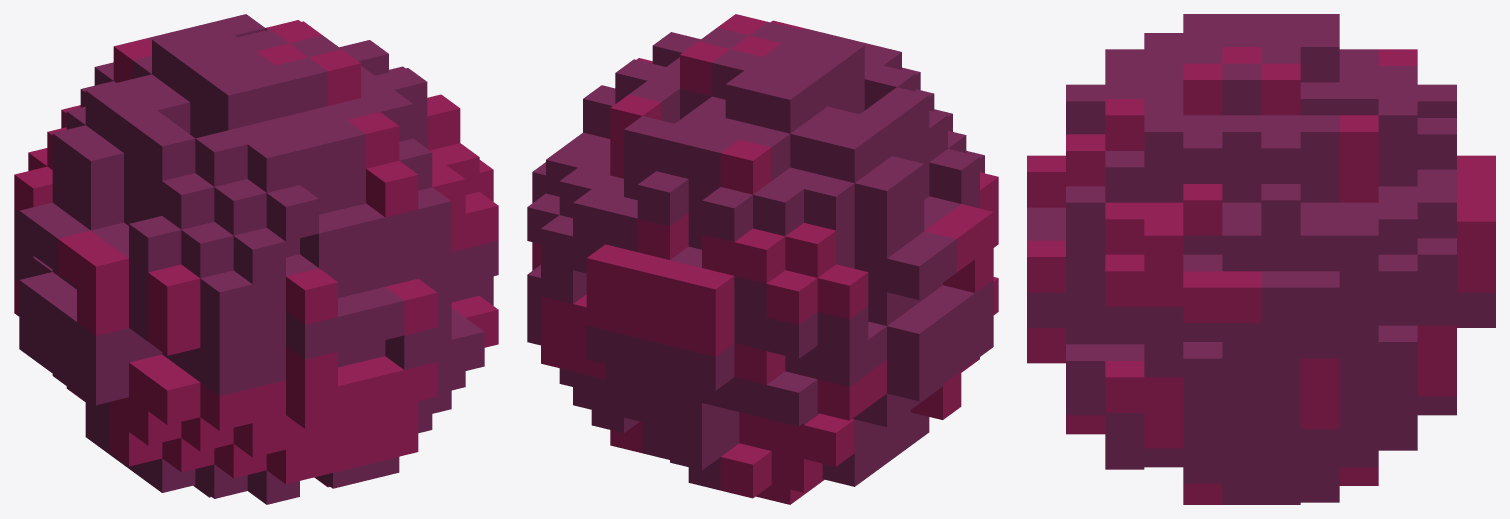
Rendered from planeta-12c.obj.
3 views of the same model, side by side, from view 1: azimuth 30°, elevation 25°; view 2: azimuth 150°, elevation 25°; view 3: azimuth 270°, elevation 25° (orthographic). The views are drawn at different scales.
Size of the model in its own units: 1.2 by 1.2 by 1.2.
Materials: 1 (1 with a texture image).
